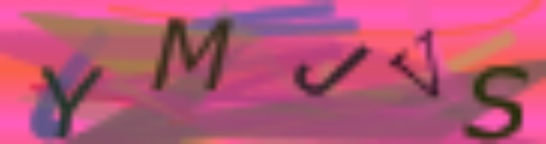J: (283, 36, 376, 101)
M: (149, 13, 240, 95)
S: (461, 62, 532, 144)
V: (388, 25, 447, 99)
Y: (31, 58, 111, 141)
